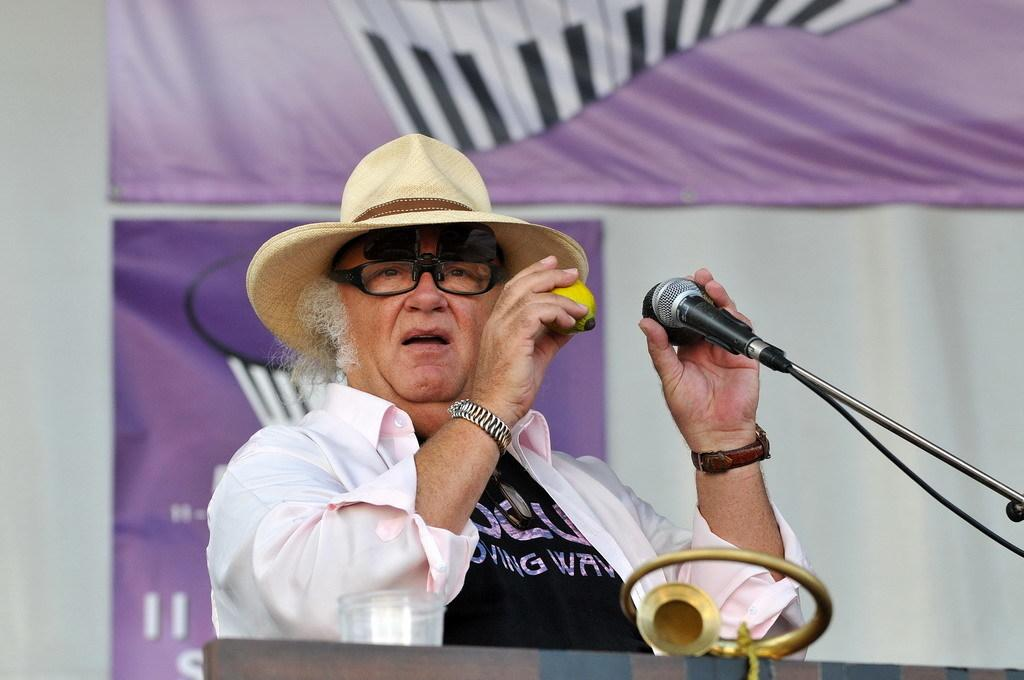Hat: (246, 133, 590, 371)
